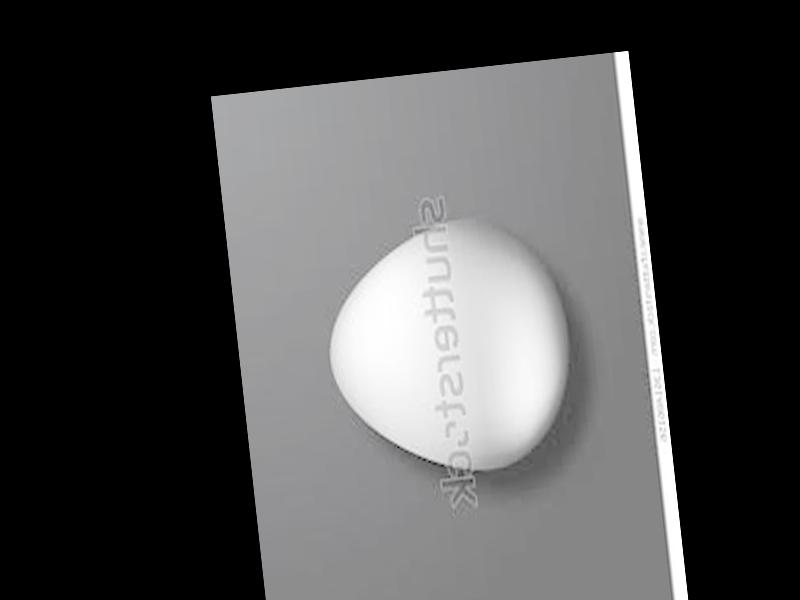Eggs: (315, 209, 578, 485)
